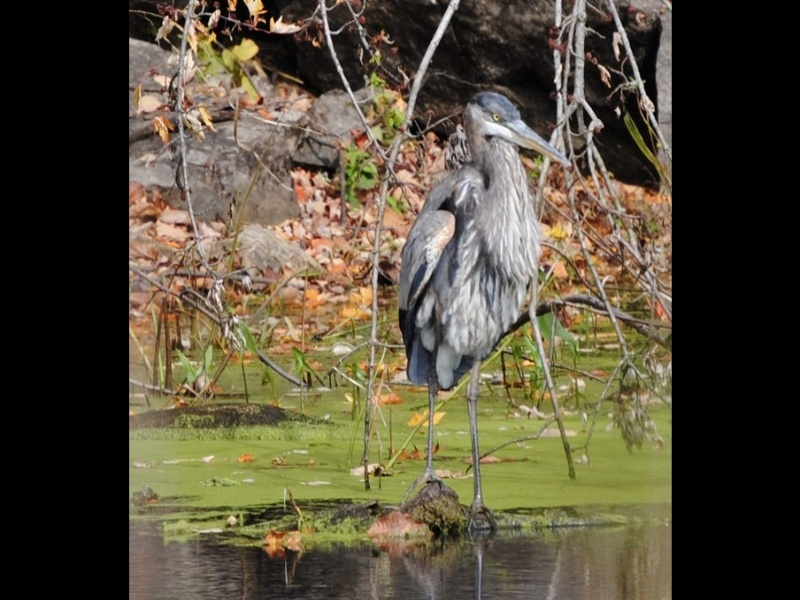heron: (395, 85, 572, 525)
